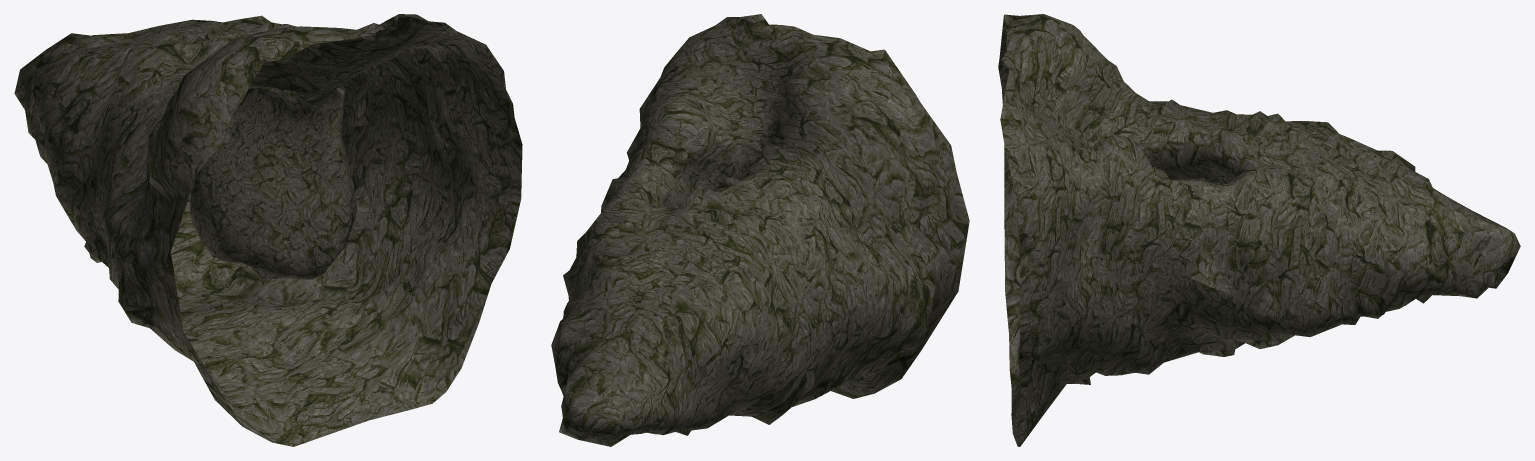
File: TI_Cliff_01_i_LOD_01.fbx
The picture shows the model from 3 angles, left to right: view 1: azimuth 30°, elevation 25°; view 2: azimuth 150°, elevation 25°; view 3: azimuth 270°, elevation 25°; orthographic projection. The views are drawn at different scales.
Visible parts, largest first — view 1: TI_Cliff_01_i_LOD_01; view 2: TI_Cliff_01_i_LOD_01; view 3: TI_Cliff_01_i_LOD_01.
Part boxes in pixels (left/top/right/bottom): TI_Cliff_01_i_LOD_01: left=14, top=14, right=522, bottom=446; TI_Cliff_01_i_LOD_01: left=551, top=14, right=969, bottom=446; TI_Cliff_01_i_LOD_01: left=998, top=14, right=1520, bottom=446.
Bounding box in the file's own units: 19.35 × 20.71 × 26.53.
